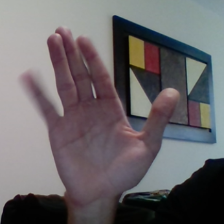left: (11, 14, 191, 204)
